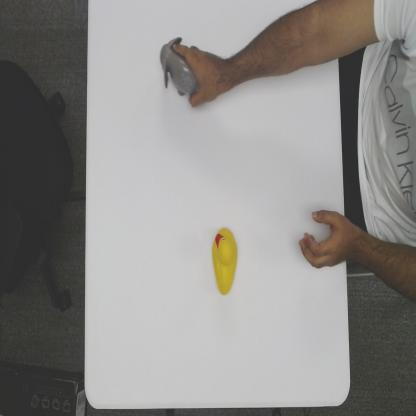Arm: (232, 0, 338, 83)
Duck: (212, 226, 238, 296)
Elephant: (159, 35, 203, 98)
Hand: (176, 39, 230, 109), (300, 206, 346, 272)
